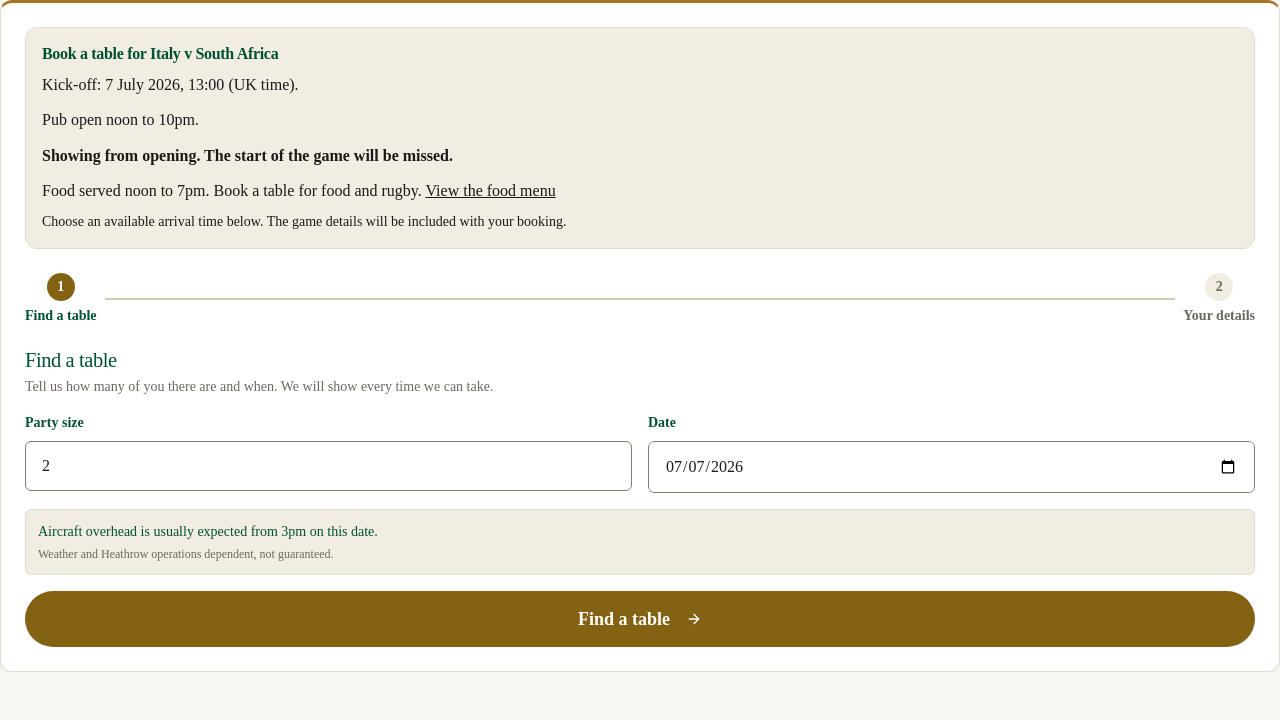
Test: ManagementTableBookingForm: two-screen flow › clears the game association visibly when the customer changes date
In the date field labelled "Date": coordinates (952, 467) [648, 441, 1255, 493], type "2026-07-08"
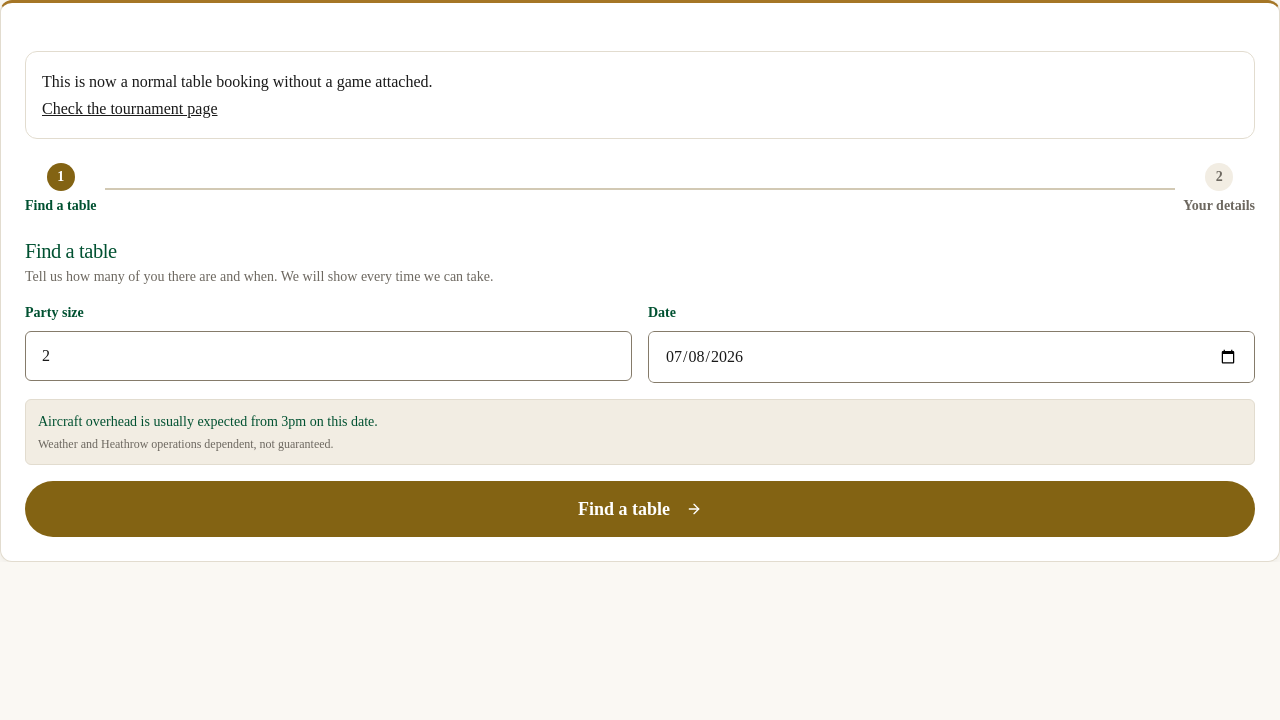
Expected: the text "This is now a normal table booking without a game attached." is shown, [42, 73, 433, 90]
